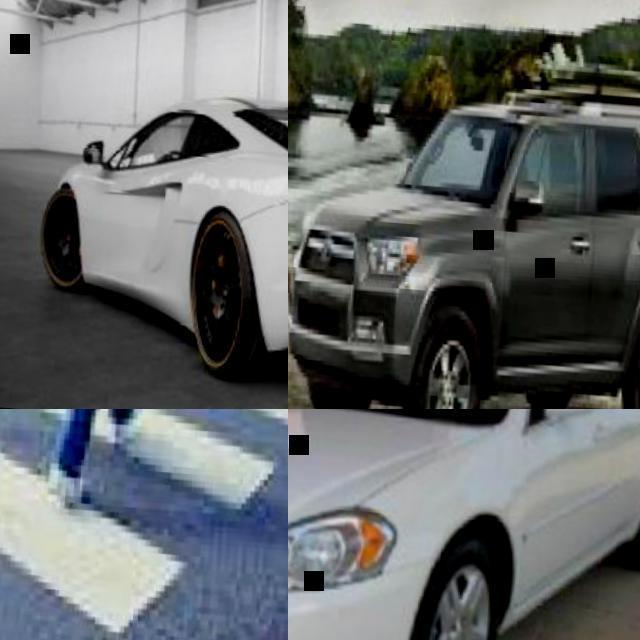car: (289, 92, 640, 412)
